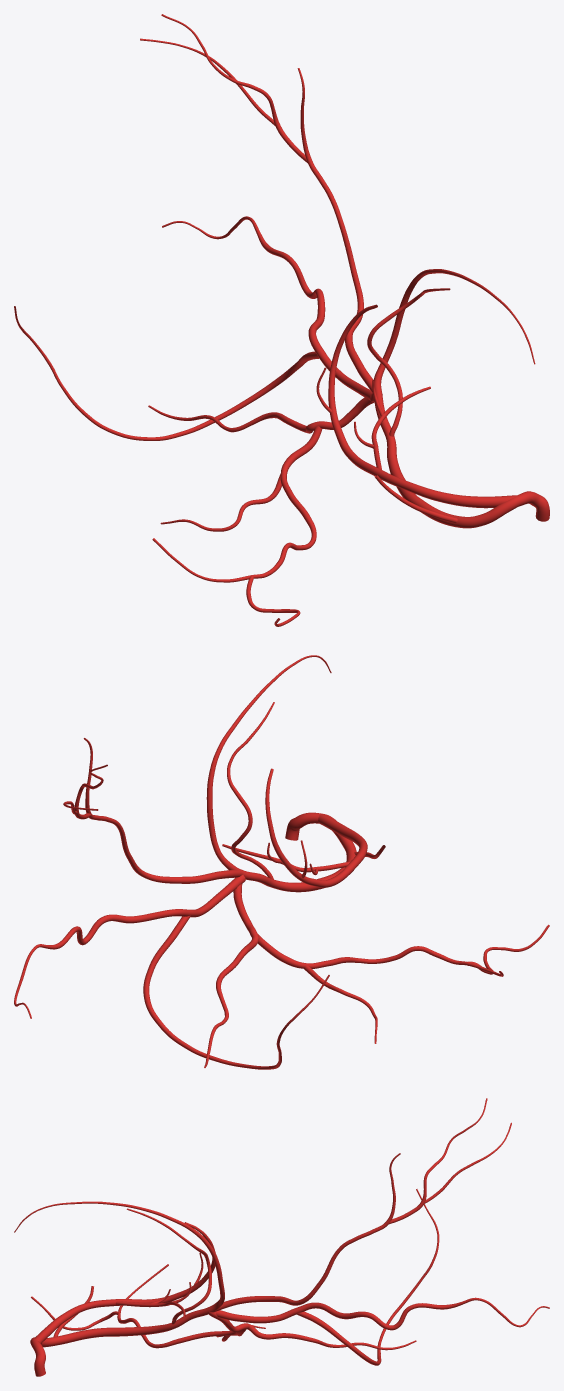
Rendered from circulatorio-posterior-cerebral-artery-r.glb.
3 views of the same model, one above another, from view 1: azimuth 30°, elevation 25°; view 2: azimuth 150°, elevation 25°; view 3: azimuth 270°, elevation 25° (orthographic). The views are drawn at different scales.
Parts seen in each view (by area): view 1: Posterior cerebral artery.r, Parieto-occipital artery.r, Medial occipital artery.r, Lateral occipital artery.r; view 2: Posterior cerebral artery.r, Medial occipital artery.r, Parieto-occipital artery.r, Lateral occipital artery.r; view 3: Posterior cerebral artery.r, Parieto-occipital artery.r, Medial occipital artery.r, Lateral occipital artery.r.
Boxes of the visible parts, bbox=[...] form: Posterior cerebral artery.r: bbox=[148, 269, 549, 626]; Parieto-occipital artery.r: bbox=[140, 14, 373, 393]; Medial occipital artery.r: bbox=[162, 216, 374, 402]; Lateral occipital artery.r: bbox=[14, 306, 319, 440]; Posterior cerebral artery.r: bbox=[204, 655, 549, 1067]; Medial occipital artery.r: bbox=[14, 875, 245, 1018]; Parieto-occipital artery.r: bbox=[63, 738, 243, 883]; Lateral occipital artery.r: bbox=[143, 915, 329, 1069]; Posterior cerebral artery.r: bbox=[14, 1201, 416, 1376]; Parieto-occipital artery.r: bbox=[212, 1098, 511, 1312]; Medial occipital artery.r: bbox=[215, 1297, 549, 1330]; Lateral occipital artery.r: bbox=[296, 1189, 439, 1365].
Bounding box in the file's own units: 0.0566 × 0.0643 × 0.1088.
